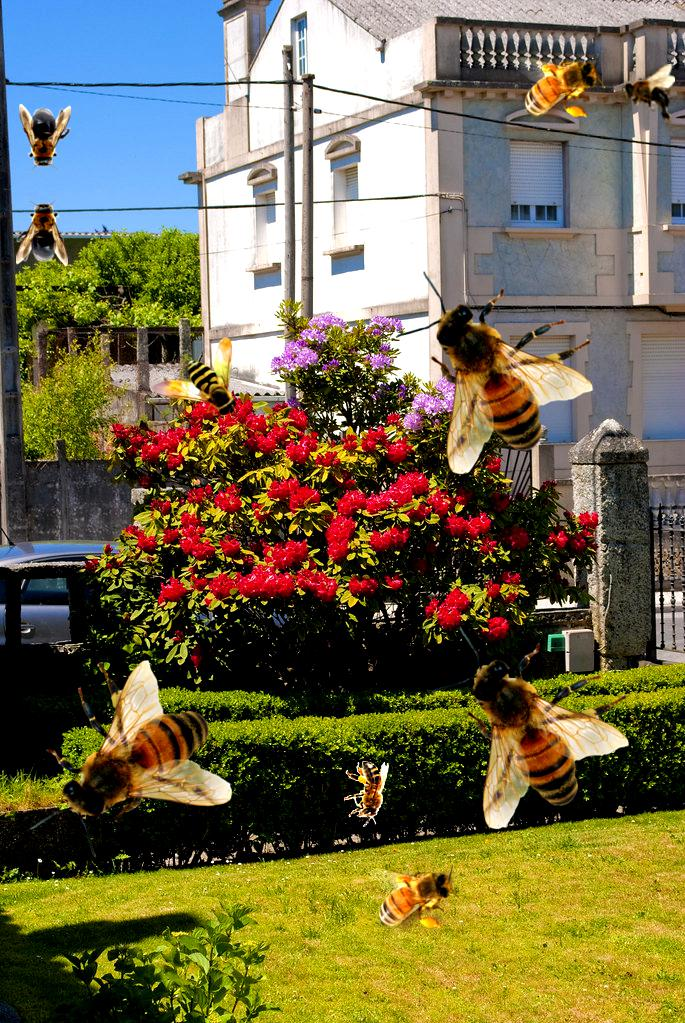Bee: (29, 660, 233, 859), (430, 626, 629, 830), (394, 271, 593, 475), (151, 337, 239, 419), (366, 864, 459, 932), (512, 53, 605, 121), (19, 104, 71, 172), (16, 198, 68, 266), (622, 64, 675, 126), (344, 761, 389, 827)
